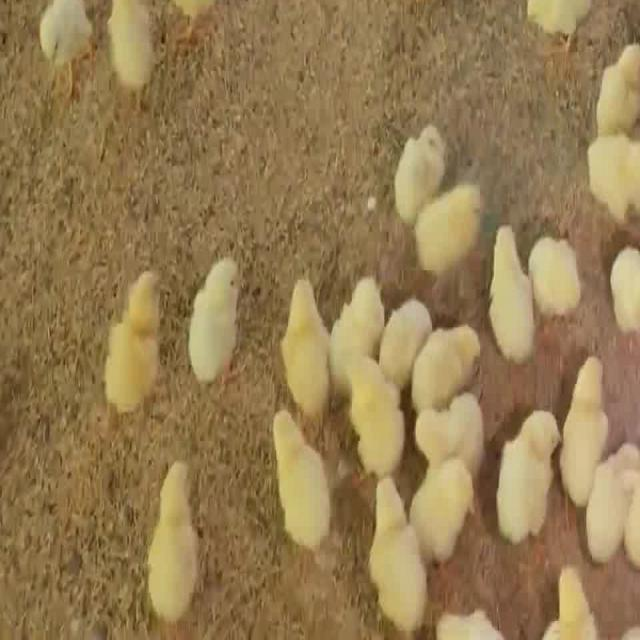poussin: (137, 469, 212, 618), (365, 449, 427, 620), (109, 258, 167, 418), (472, 236, 547, 356), (496, 386, 560, 523), (269, 395, 329, 541), (342, 316, 402, 454), (557, 349, 610, 502), (184, 248, 242, 386), (30, 0, 99, 116), (412, 163, 482, 277), (284, 261, 336, 408), (404, 459, 474, 566), (380, 113, 451, 217), (407, 297, 479, 399), (108, 0, 160, 140), (583, 412, 640, 531), (577, 124, 640, 230), (329, 246, 392, 334), (522, 239, 592, 316), (414, 388, 486, 458), (370, 298, 427, 385), (517, 0, 607, 52), (592, 31, 640, 117), (603, 242, 640, 340)
